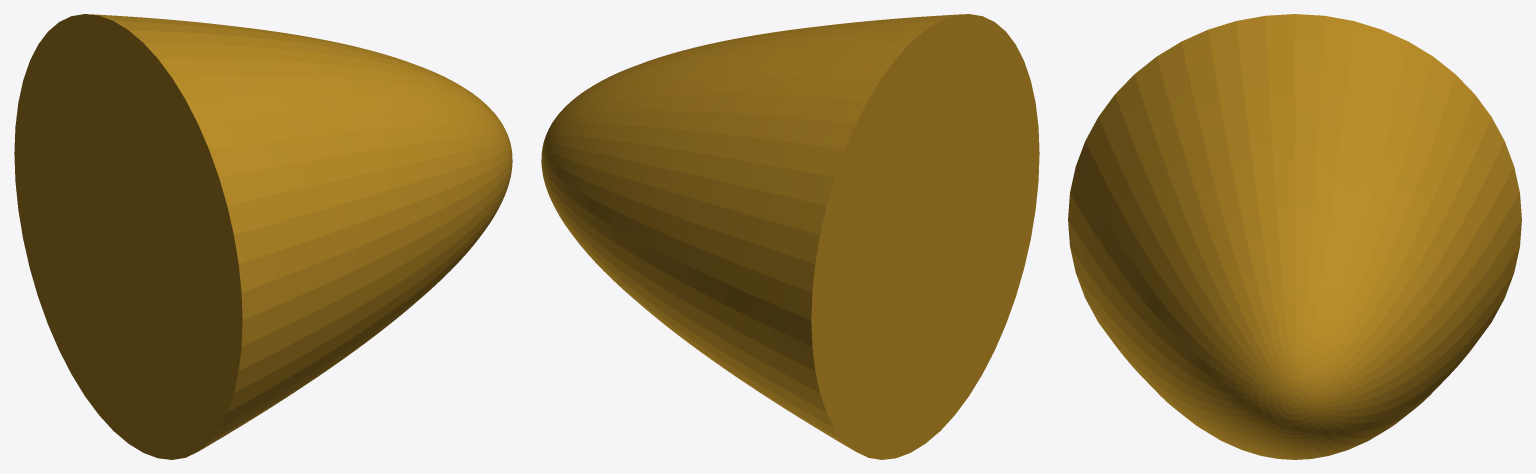
The model's file is bala.obj.
3 renders of one model, left to right at view 1: azimuth 30°, elevation 25°; view 2: azimuth 150°, elevation 25°; view 3: azimuth 270°, elevation 25°, orthographic.
Visible parts, largest first — view 1: obj_0; view 2: obj_0; view 3: obj_0.
Boxes of the visible parts, left/top/right/bottom form: obj_0: left=14, top=14, right=512, bottom=459; obj_0: left=541, top=14, right=1039, bottom=459; obj_0: left=1068, top=14, right=1521, bottom=459.
Size of the model in its own units: 19 by 20 by 20.
